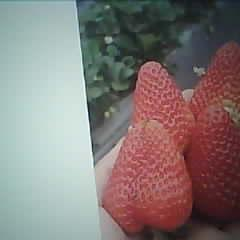straw-ripe: (104, 122, 194, 233), (189, 108, 240, 221)
